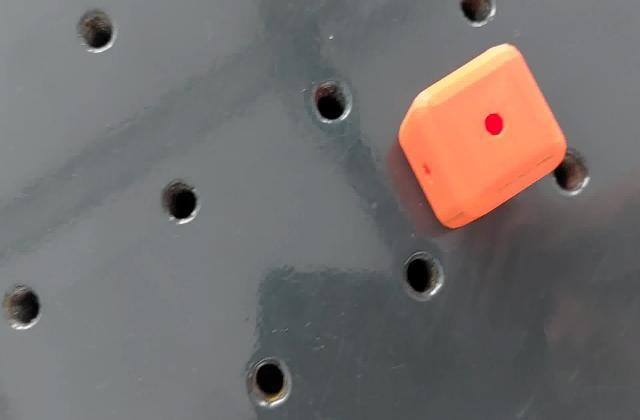cube: (398, 40, 570, 234)
